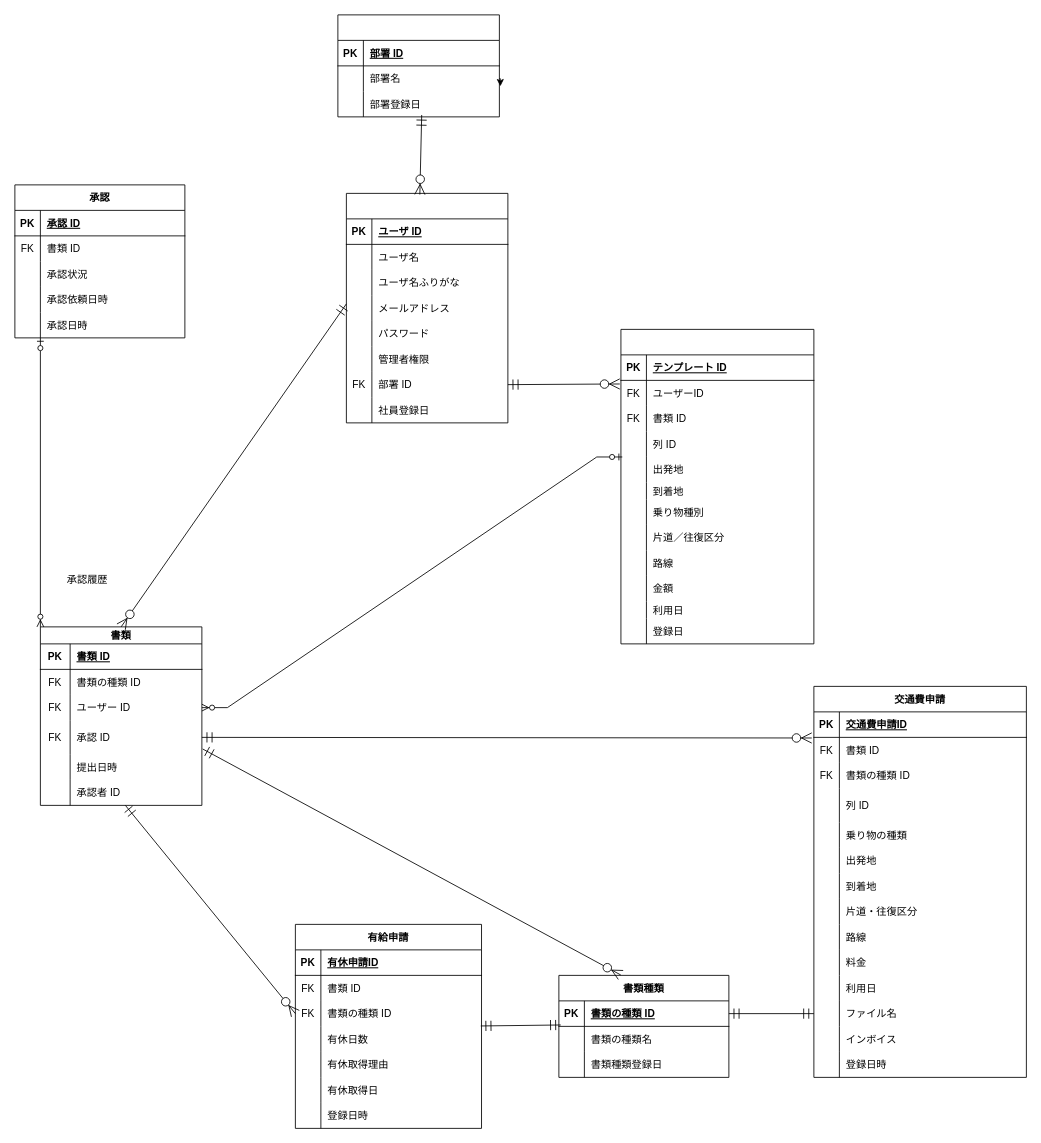
The diagram is 1041 pixels wide and 1143 high, and some of its shapes have lost their labels. Each missing label, with the box of its shape:
交通費申請テンプレート: (620, 329, 814, 644)
社員: (346, 193, 508, 423)
部署: (337, 14, 499, 117)
